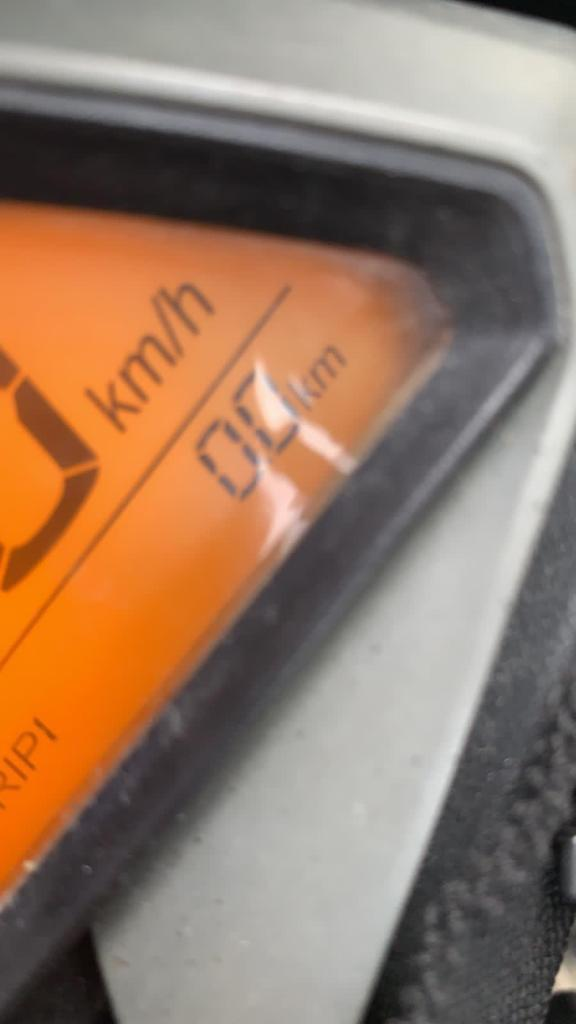0: (232, 366, 303, 455), (192, 419, 264, 502)
1: (27, 709, 64, 747)
X: (115, 335, 178, 402), (158, 274, 218, 336), (77, 380, 141, 435), (146, 294, 190, 357), (309, 343, 349, 391), (284, 376, 324, 411), (10, 729, 42, 770), (1, 754, 27, 784)
odometer: (2, 181, 479, 922)
